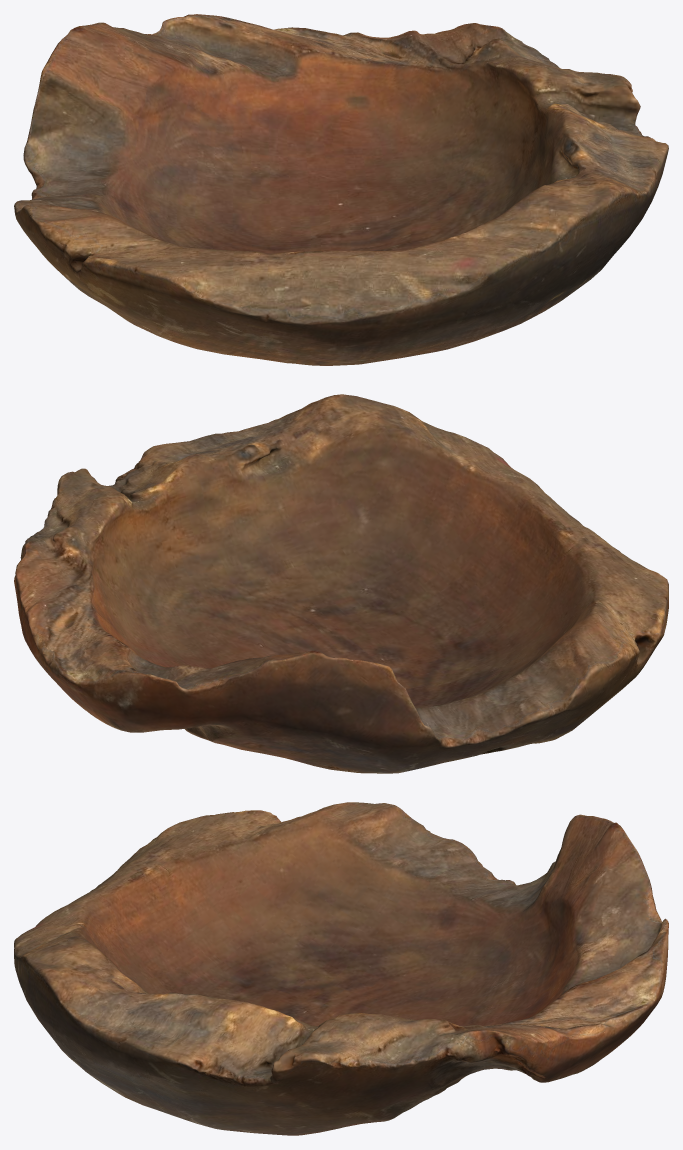
Rendered from wooden_bowl_01.glb.
3 renders of one model, top to bottom at view 1: azimuth 30°, elevation 25°; view 2: azimuth 150°, elevation 25°; view 3: azimuth 270°, elevation 25°, orthographic. The views are drawn at different scales.
Parts seen in each view (by area): view 1: wooden_bowl_01; view 2: wooden_bowl_01; view 3: wooden_bowl_01.
Part boxes in pixels (x1,y1,x2,y2): wooden_bowl_01: [14, 14, 668, 365]; wooden_bowl_01: [14, 394, 668, 773]; wooden_bowl_01: [14, 802, 668, 1135].
Size of the model in its own units: 0.3131 by 0.0937 by 0.3091.
1 material, 1 textured.
